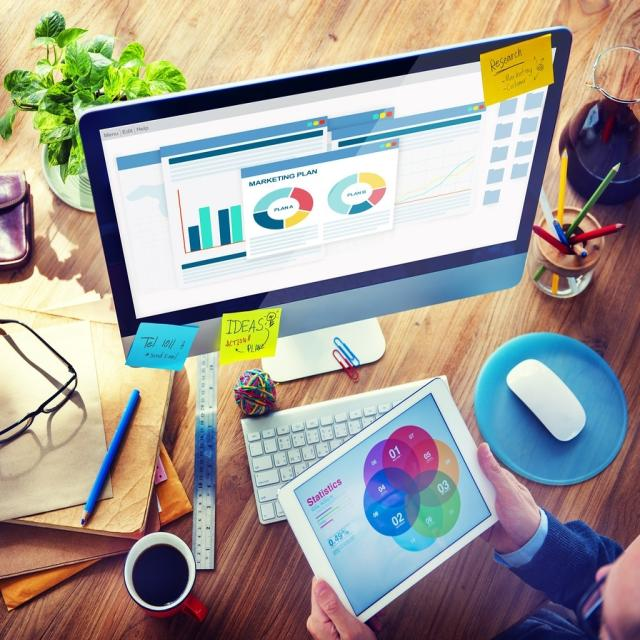E-waste: (70, 10, 569, 640)
